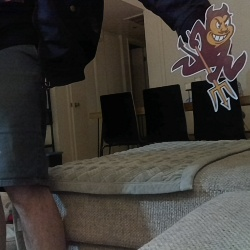sparky: (170, 1, 247, 111)
